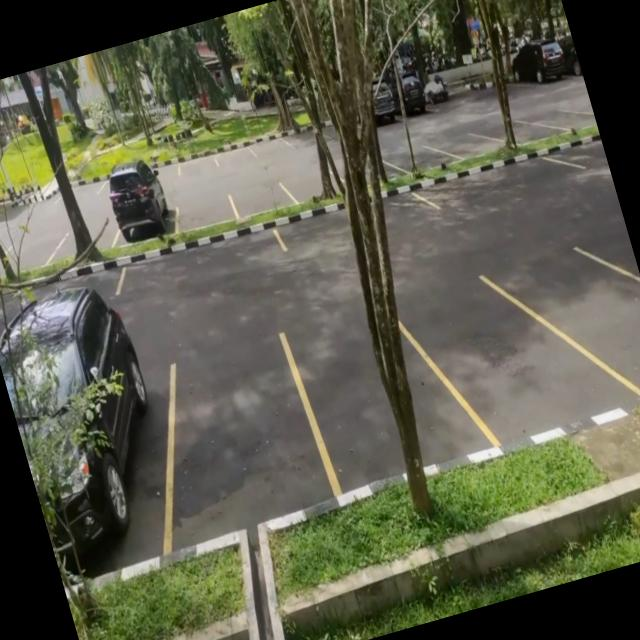empty: (283, 286, 474, 500), (144, 330, 334, 540), (425, 257, 589, 447), (544, 229, 640, 406), (106, 214, 288, 306), (412, 132, 574, 216), (225, 162, 298, 223), (168, 180, 239, 234)
occupied: (35, 308, 190, 561), (98, 166, 178, 247)
